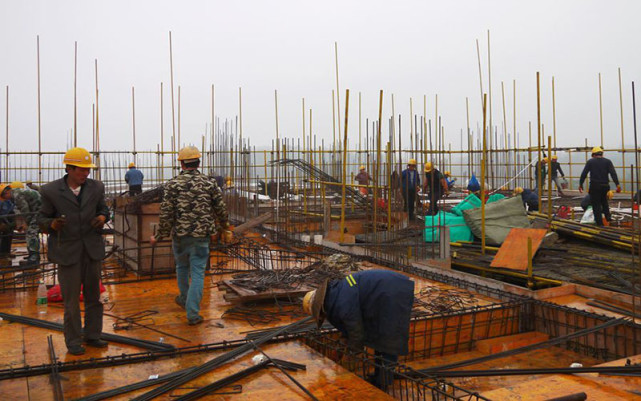garbagetruck: (29, 126, 375, 394)
